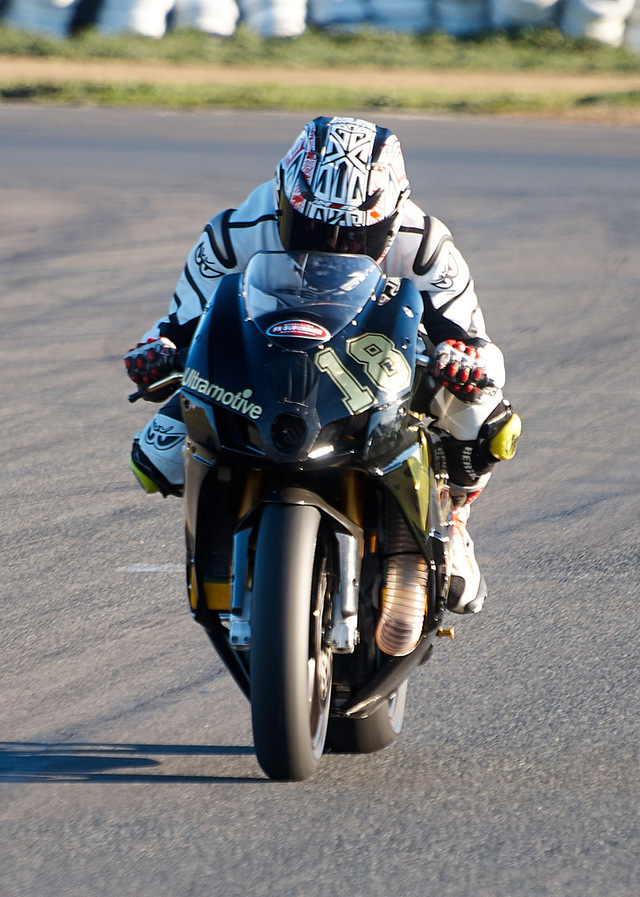helmet: (271, 121, 415, 265)
